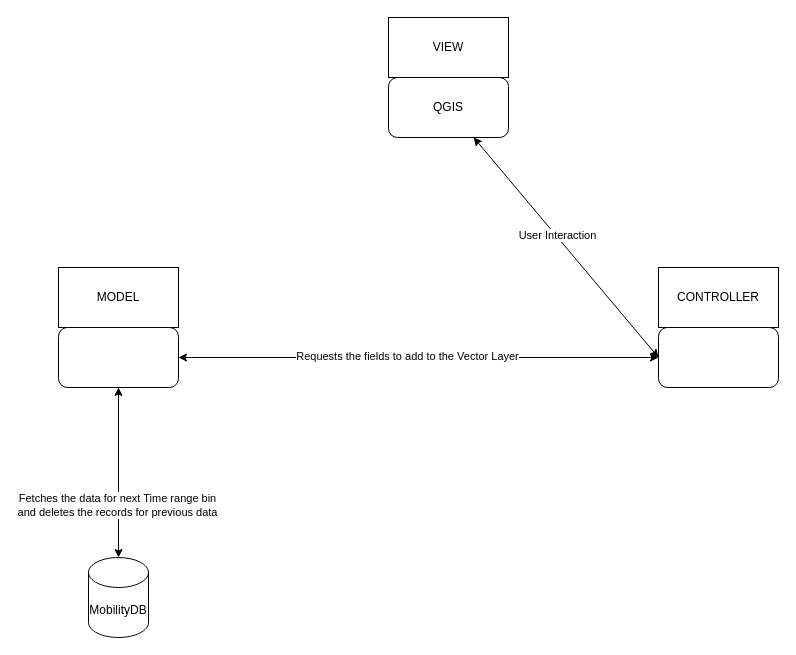
Some shapes in this 796 by 655 pixel diagram are drawn without their labels. Each missing label, with the centre of its shape:
PymeosStore: [118,357]
qViz: [718,357]
